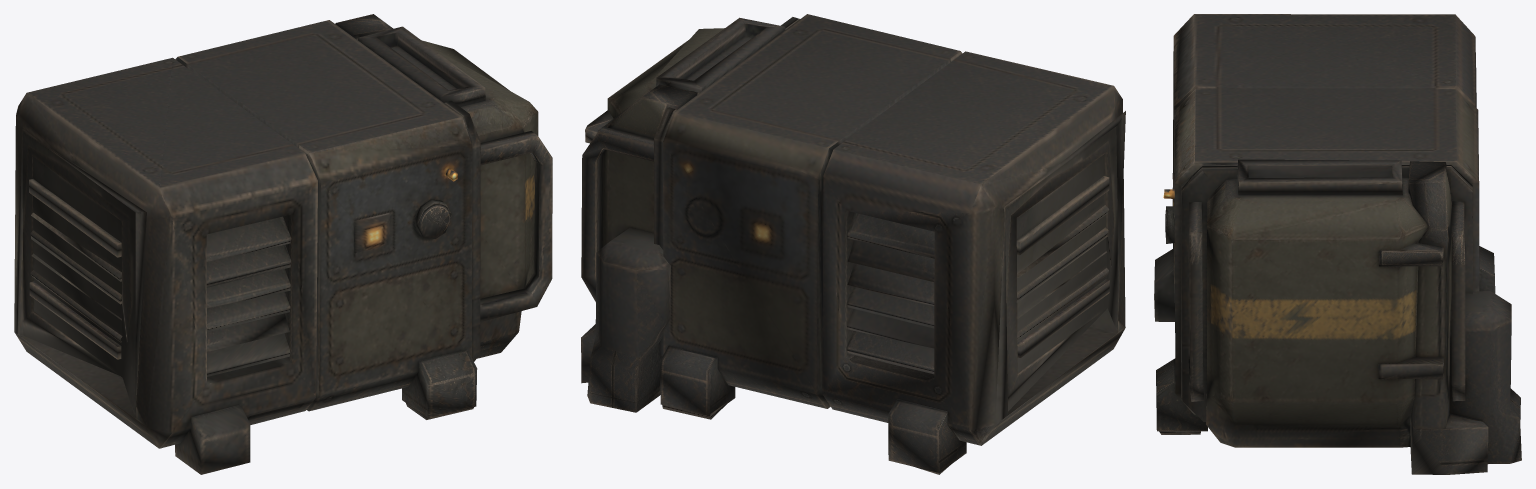
The model's file is Generator.glb.
3 views of the same model, side by side, from view 1: azimuth 30°, elevation 25°; view 2: azimuth 150°, elevation 25°; view 3: azimuth 270°, elevation 25° (orthographic). The views are drawn at different scales.
Size of the model in its own units: 2 by 1.3 by 1.55.
1 material, 1 textured.
